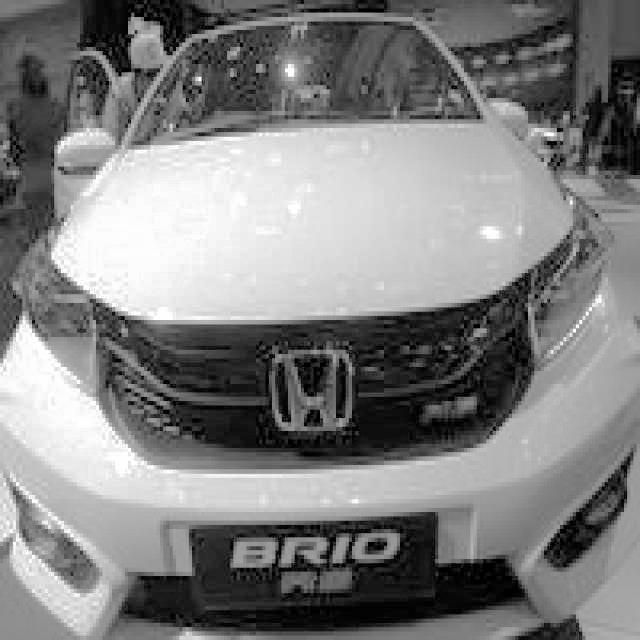Car: (0, 23, 640, 639)
